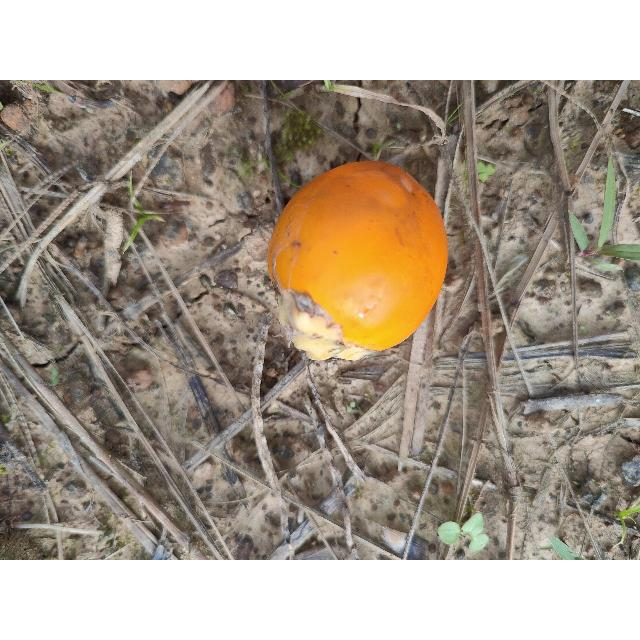good: (265, 161, 449, 361)
